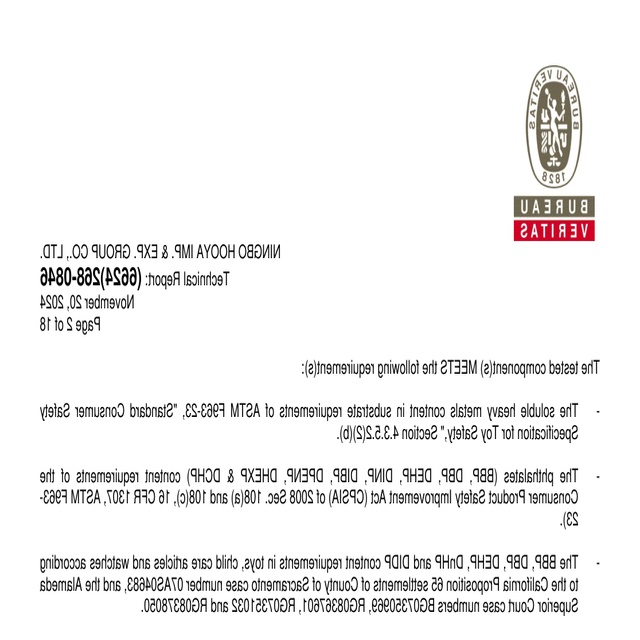bureau_veritas: (512, 63, 598, 243)
